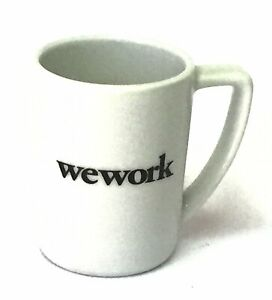wework: (54, 151, 178, 187)
